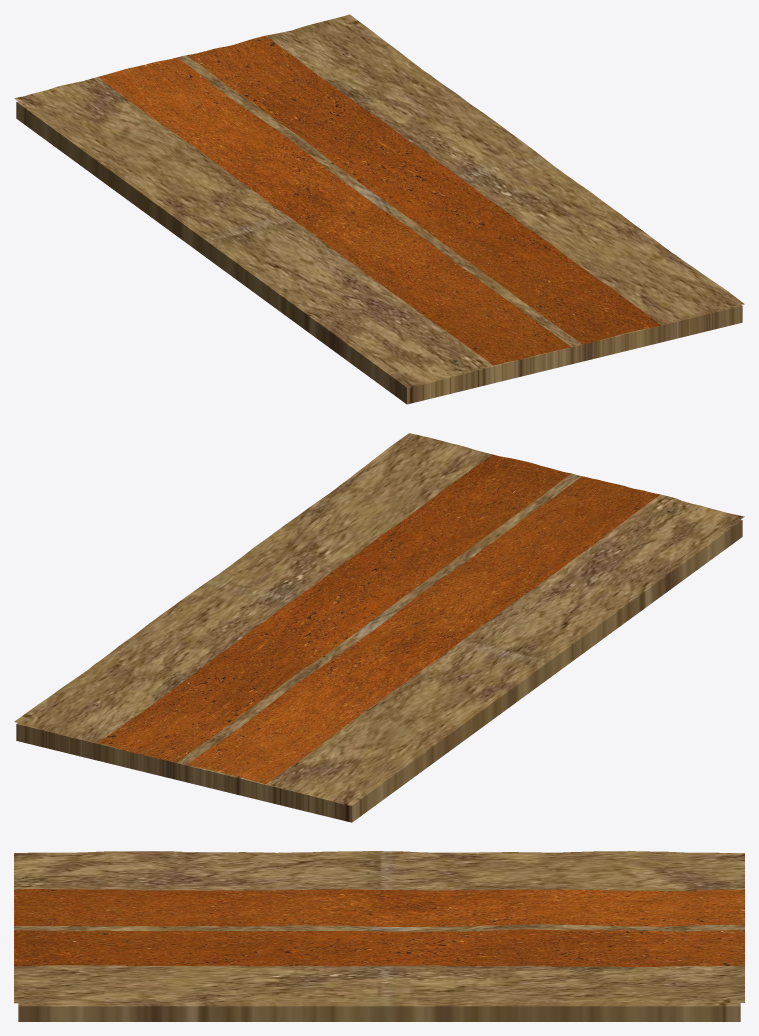
File: jalan tanah.fbx
3 views of the same model, one above another, from view 1: azimuth 30°, elevation 25°; view 2: azimuth 150°, elevation 25°; view 3: azimuth 270°, elevation 25° (orthographic). The views are drawn at different scales.
Parts seen in each view (by area): view 1: jalan tanah, Plane; view 2: jalan tanah, Plane; view 3: jalan tanah, Plane.
Part boxes in pixels (x1,y1,x2,y2): jalan tanah: [14, 14, 744, 387]; Plane: [16, 101, 742, 404]; jalan tanah: [14, 433, 744, 805]; Plane: [16, 519, 742, 822]; jalan tanah: [14, 851, 744, 1005]; Plane: [18, 1003, 740, 1021].
Bounding box in the file's own units: 3961 × 241 × 8071.
Materials: 3 (3 with a texture image).
